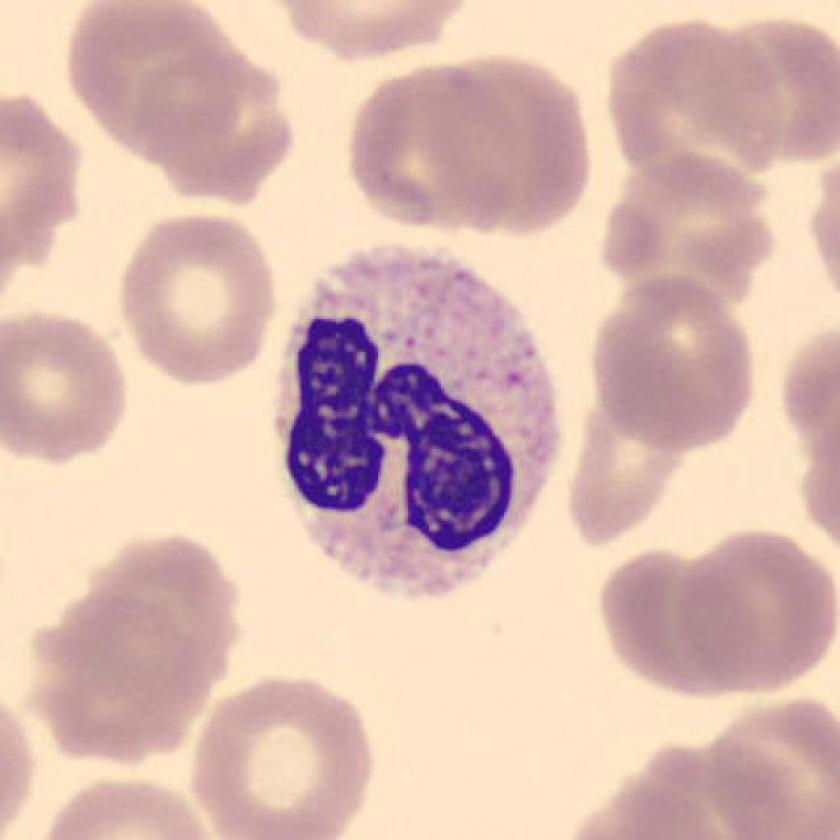neutrophil: (278, 248, 563, 598)
